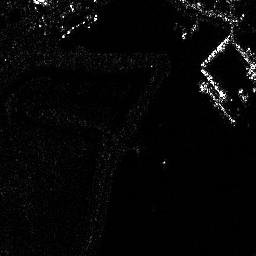ship: (198, 82, 236, 125), (59, 12, 97, 38)
